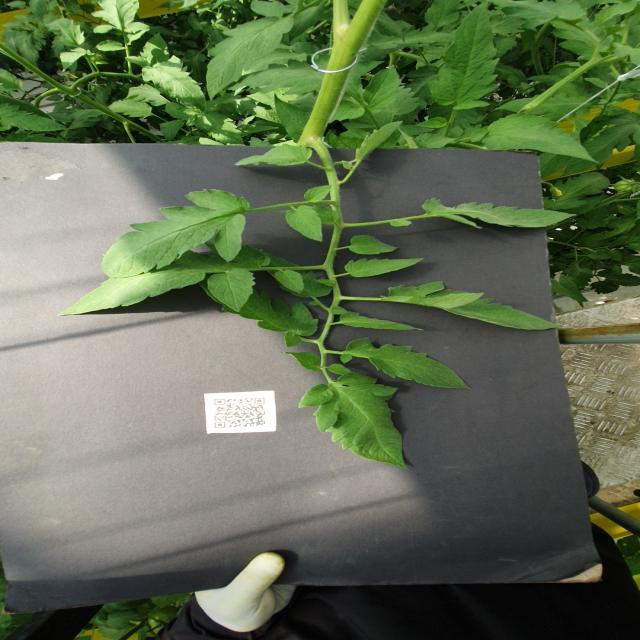Tomato healthy leaf: (57, 242, 271, 317), (100, 189, 251, 278), (296, 372, 409, 470), (380, 281, 564, 330), (206, 0, 295, 101), (428, 0, 501, 110), (468, 112, 602, 164), (341, 336, 472, 389), (421, 197, 577, 229), (238, 287, 318, 347), (142, 60, 206, 108), (0, 103, 73, 132), (274, 92, 312, 143), (356, 120, 404, 160), (234, 143, 314, 166), (364, 65, 401, 113), (124, 32, 170, 68), (196, 112, 244, 146), (339, 312, 424, 331), (344, 257, 424, 277), (285, 205, 324, 242), (348, 234, 398, 254), (280, 350, 321, 370), (108, 100, 152, 118), (275, 270, 304, 294), (416, 132, 458, 148), (159, 120, 185, 142), (302, 185, 333, 202), (414, 116, 447, 128), (96, 40, 126, 51)
